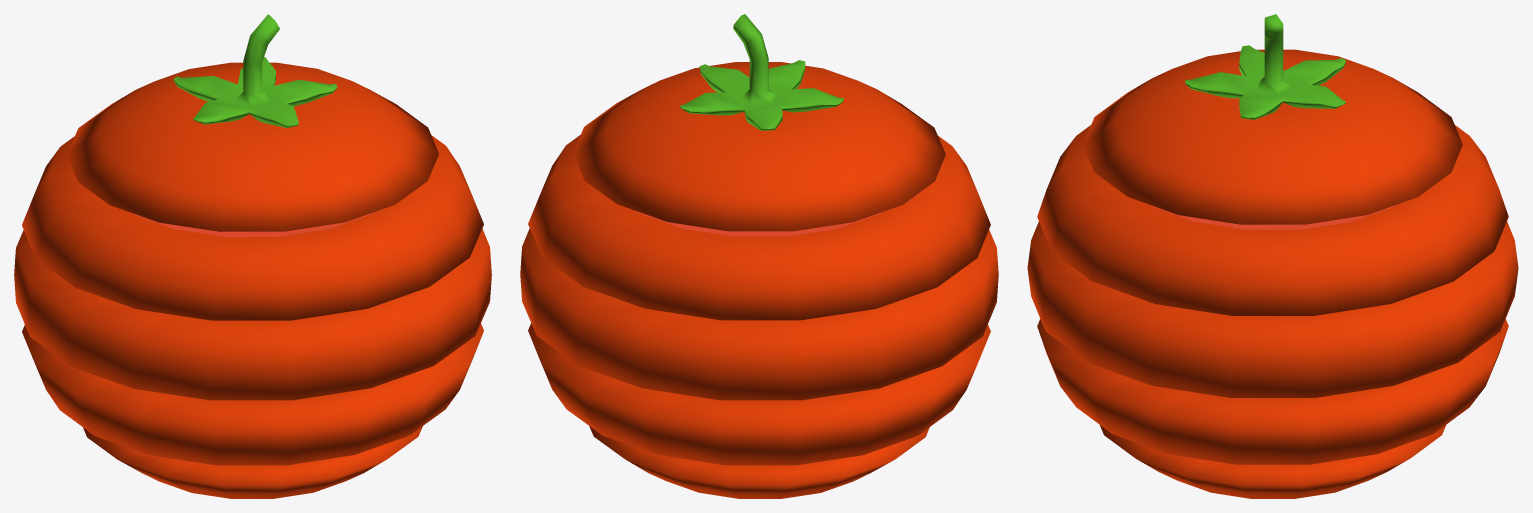
Rendered from tomato_slices.fbx.
3 renders of one model, left to right at view 1: azimuth 30°, elevation 25°; view 2: azimuth 150°, elevation 25°; view 3: azimuth 270°, elevation 25°, orthographic. The views are drawn at different scales.
Parts seen in each view (by area): view 1: top slice, up mid slice, mid slice, down mid slice, bottom slice; view 2: top slice, up mid slice, mid slice, down mid slice, bottom slice; view 3: top slice, up mid slice, mid slice, down mid slice, bottom slice.
Part boxes in pixels (x1,y1,x2,y2): top slice: [67, 14, 438, 231]; up mid slice: [22, 135, 483, 320]; mid slice: [14, 229, 491, 400]; down mid slice: [22, 323, 483, 465]; bottom slice: [83, 426, 422, 498]; top slice: [573, 14, 945, 231]; up mid slice: [528, 135, 990, 320]; mid slice: [520, 228, 998, 400]; down mid slice: [528, 323, 990, 465]; bottom slice: [589, 426, 929, 498]; top slice: [1083, 14, 1462, 224]; up mid slice: [1037, 125, 1508, 315]; mid slice: [1027, 221, 1518, 397]; down mid slice: [1037, 319, 1508, 464]; bottom slice: [1100, 425, 1445, 498].
Size of what is drawn, in the model's own units: 196 by 203 by 199.
